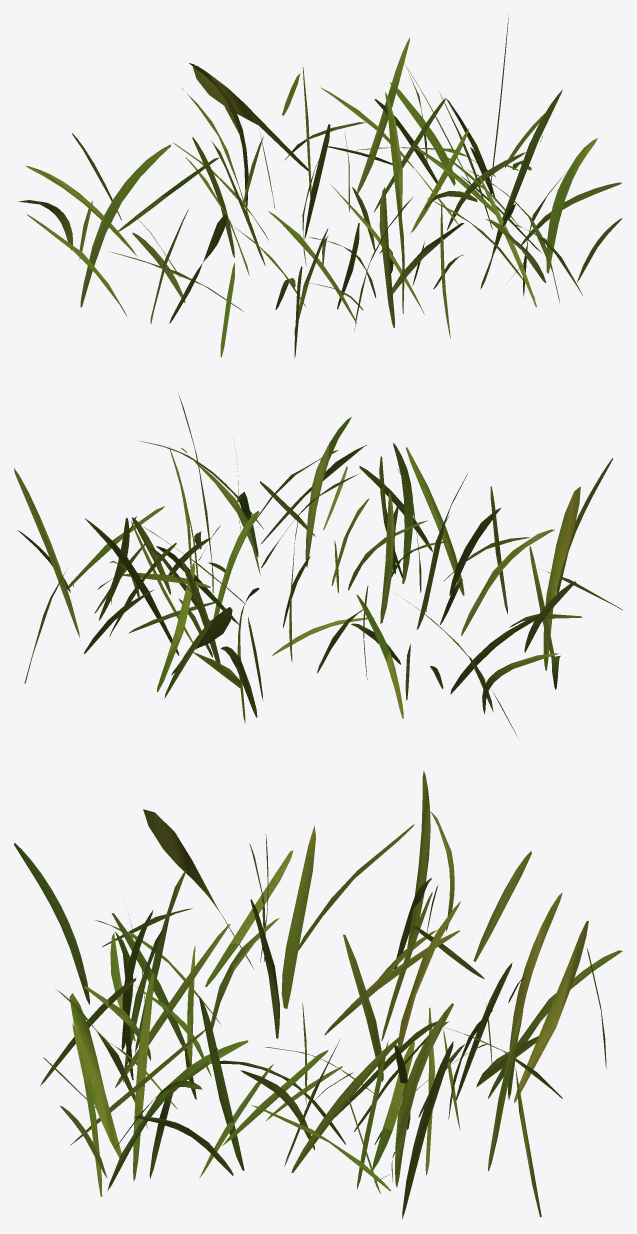
File: Grass_Duo_01.glb
The picture shows the model from 3 angles, top to bottom: view 1: azimuth 30°, elevation 25°; view 2: azimuth 150°, elevation 25°; view 3: azimuth 270°, elevation 25°; orthographic projection. The views are drawn at different scales.
Parts seen in each view (by area): view 1: Grass_Duo_01; view 2: Grass_Duo_01; view 3: Grass_Duo_01.
Boxes of the visible parts, left/top/right/bottom form: Grass_Duo_01: left=18, top=15, right=622, bottom=358; Grass_Duo_01: left=14, top=393, right=622, bottom=736; Grass_Duo_01: left=14, top=770, right=622, bottom=1219.
Size of the model in its own units: 0.4615 by 0.15 by 0.3774.
Materials: 1 (1 with a texture image).
